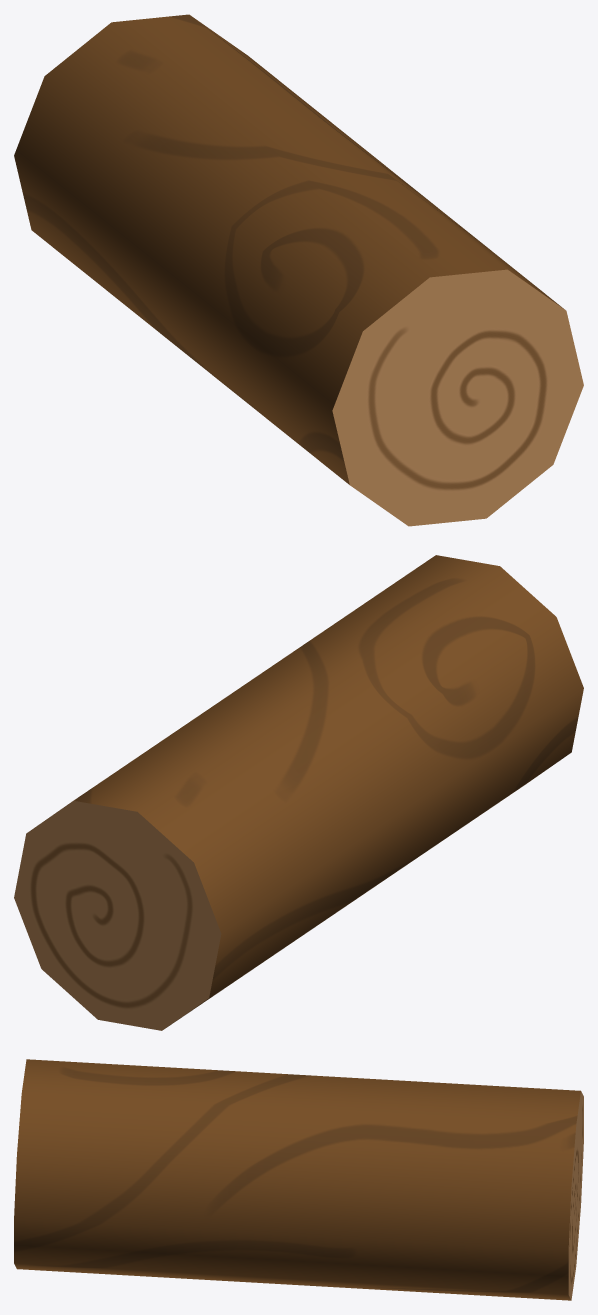
Rendered from tronco.FBX.
3 views of the same model, one above another, from view 1: azimuth 30°, elevation 25°; view 2: azimuth 150°, elevation 25°; view 3: azimuth 270°, elevation 25° (orthographic). The views are drawn at different scales.
Parts seen in each view (by area): view 1: Cylinder002; view 2: Cylinder002; view 3: Cylinder002.
Boxes of the visible parts, <box> form: Cylinder002: <box>14,14,583,526</box>; Cylinder002: <box>14,555,583,1030</box>; Cylinder002: <box>14,1059,583,1300</box>.
Bounding box in the file's own units: 15.75 × 14.22 × 35.6.
1 material, 1 textured.
